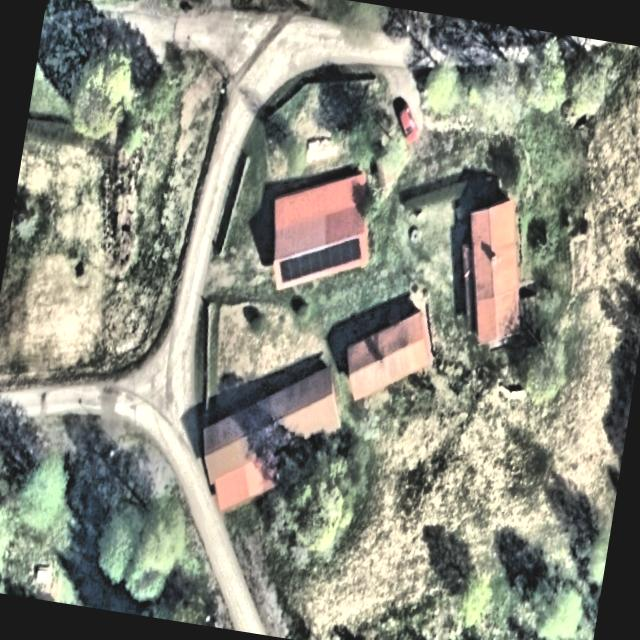roof_pv: (274, 220, 366, 304)
